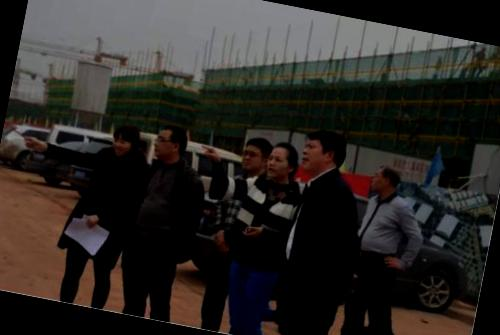no_helmet: (295, 122, 350, 180), (261, 136, 304, 184), (235, 130, 276, 178), (149, 119, 192, 164), (106, 117, 148, 163), (369, 161, 407, 201)
